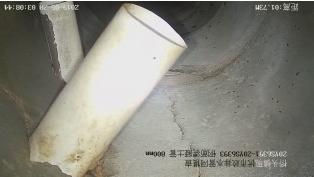ZGAJ: (31, 5, 187, 177), (40, 2, 84, 82)
